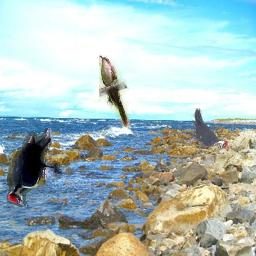Cuckoo: (100, 55, 131, 127)
Woodpecker: (8, 129, 63, 208), (186, 108, 228, 152)
